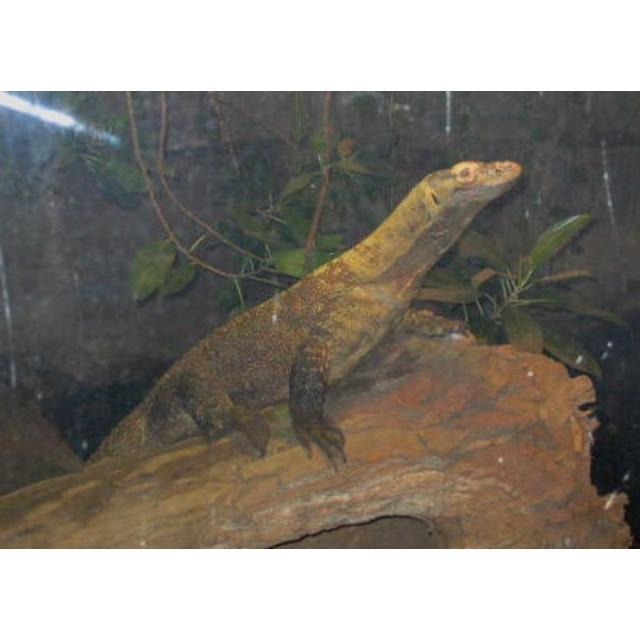KomodoDragon: (87, 153, 520, 463)
